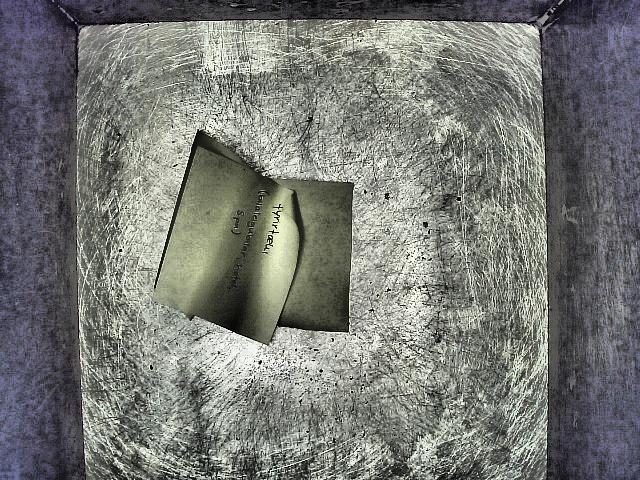Paper: (158, 126, 405, 370)
